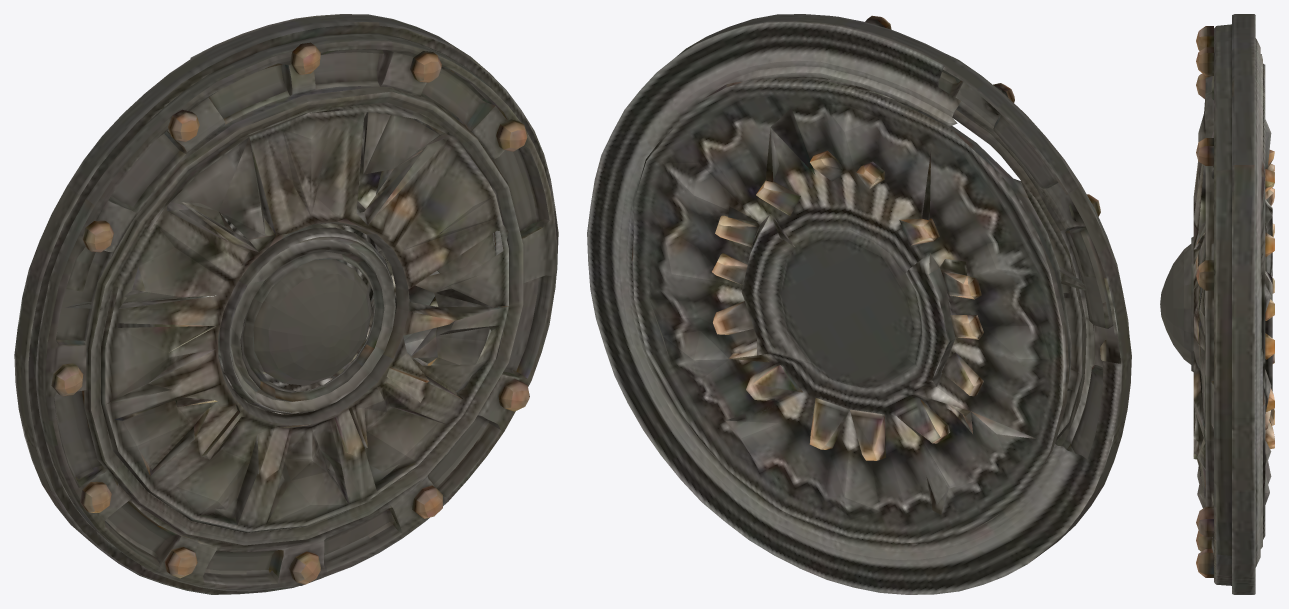
The model's file is ceiling_rose.glb.
3 renders of one model, left to right at view 1: azimuth 30°, elevation 25°; view 2: azimuth 150°, elevation 25°; view 3: azimuth 270°, elevation 25°, orthographic. The views are drawn at different scales.
Visible parts, largest first — view 1: mesh_node; view 2: mesh_node; view 3: mesh_node.
Boxes of the visible parts, <box> form: mesh_node: <box>14,14,558,594</box>; mesh_node: <box>587,14,1131,594</box>; mesh_node: <box>1160,14,1274,594</box>.
Bounding box in the file's own units: 1.9 × 1.9 × 0.3756.
Materials: 1 (1 with a texture image).
